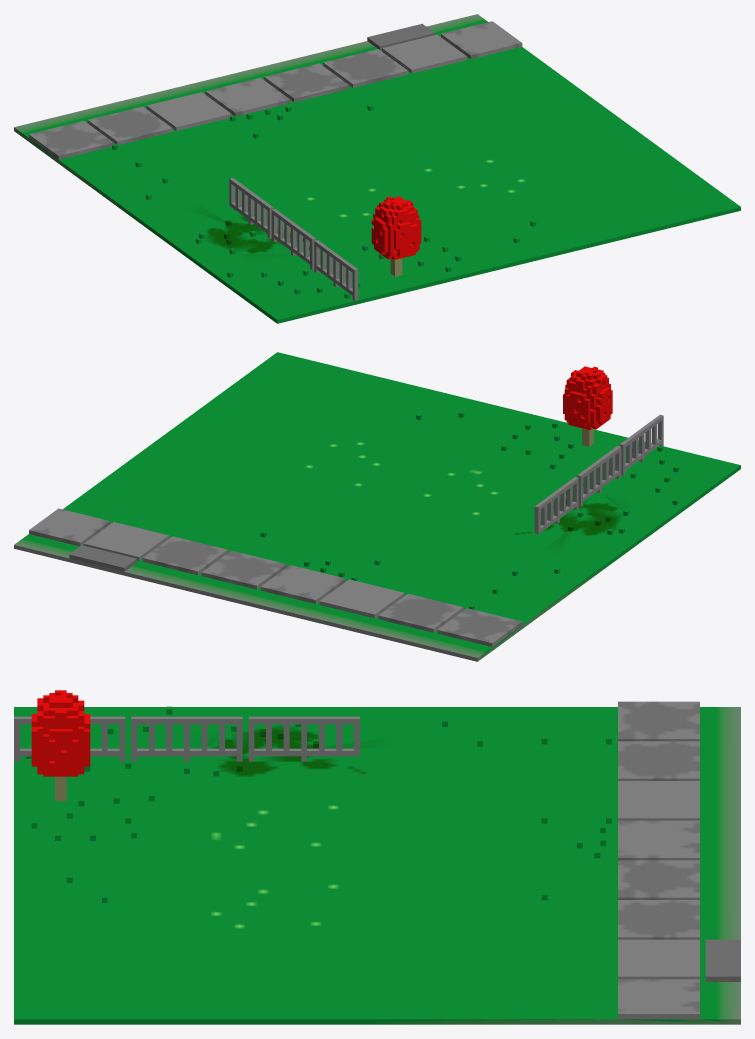
The model's file is scene_ground.dae.
3 views of the same model, one above another, from view 1: azimuth 30°, elevation 25°; view 2: azimuth 150°, elevation 25°; view 3: azimuth 270°, elevation 25° (orthographic). The views are drawn at different scales.
Visible parts, largest first — view 1: zombie; view 2: zombie; view 3: zombie.
Part boxes in pixels (left/top/right/bottom): zombie: left=14, top=14, right=740, bottom=323; zombie: left=14, top=352, right=740, bottom=661; zombie: left=14, top=690, right=740, bottom=1024.
Size of the model in its own units: 12.6 by 12.4 by 2.
